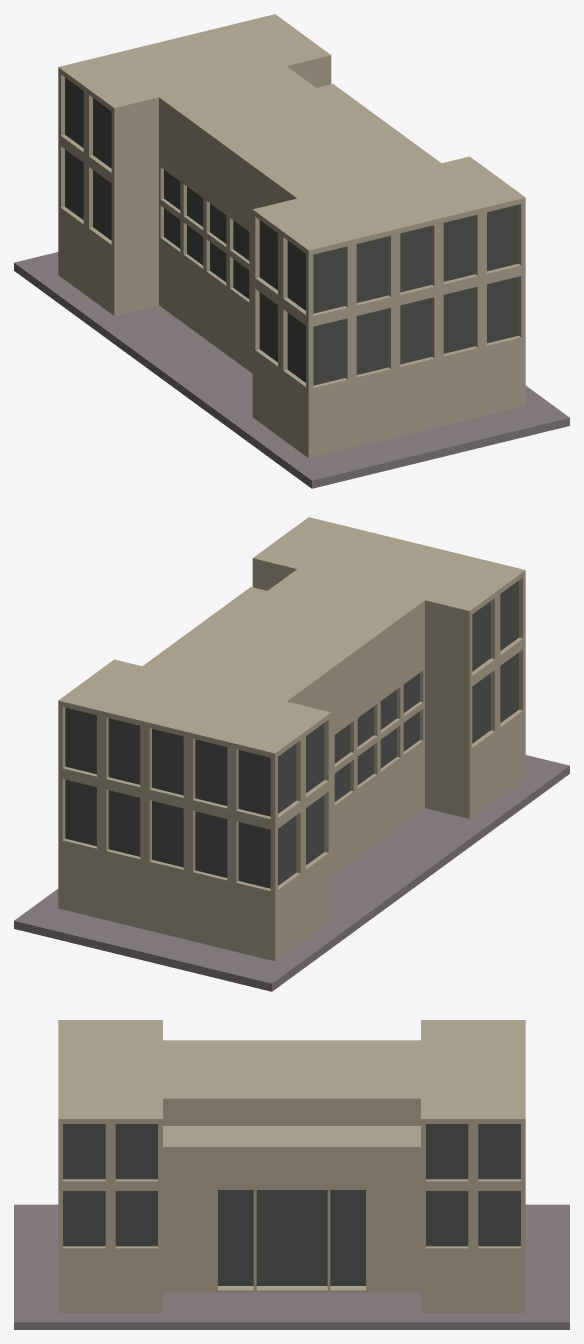
The model's file is building_1x2_5_g.glb.
3 renders of one model, top to bottom at view 1: azimuth 30°, elevation 25°; view 2: azimuth 150°, elevation 25°; view 3: azimuth 270°, elevation 25°, orthographic. The views are drawn at different scales.
Parts seen in each view (by area): view 1: FirstFloor; view 2: FirstFloor; view 3: FirstFloor.
Boxes of the visible parts, x1,y1,x2,y2 form: FirstFloor: (14,14,569,488); FirstFloor: (14,517,569,991); FirstFloor: (14,1020,569,1329).
Bounding box in the file's own units: 2 × 1.6 × 4.
